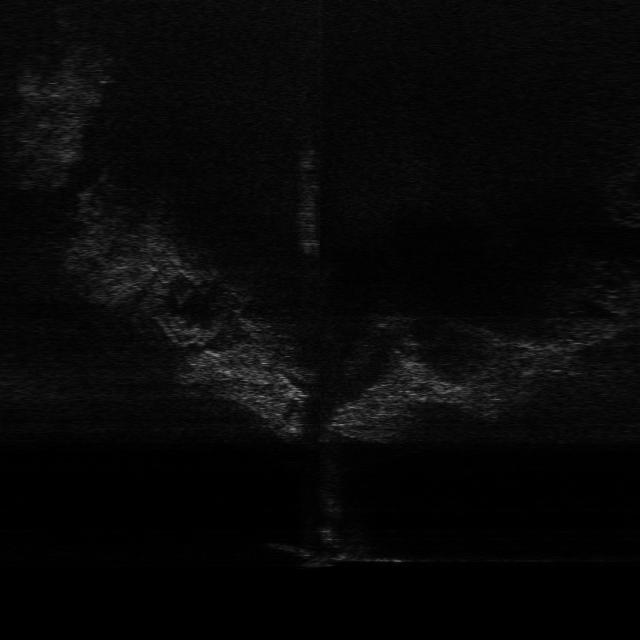plane: (268, 525, 414, 567)
